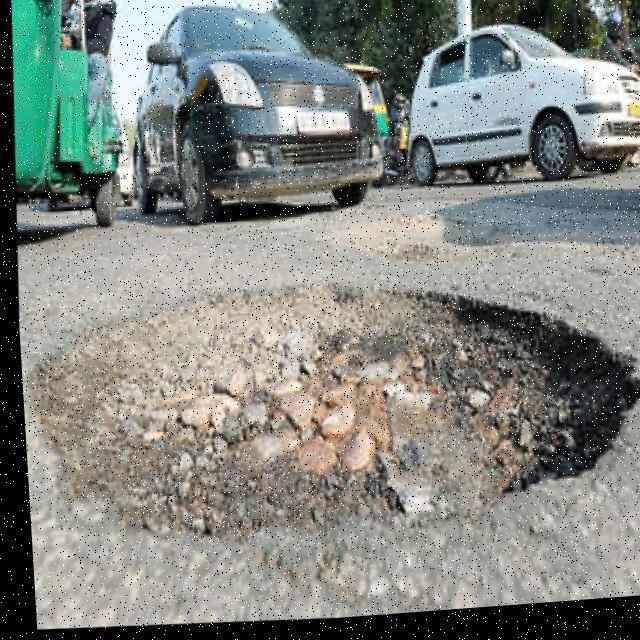Pothole: (25, 284, 639, 534)
